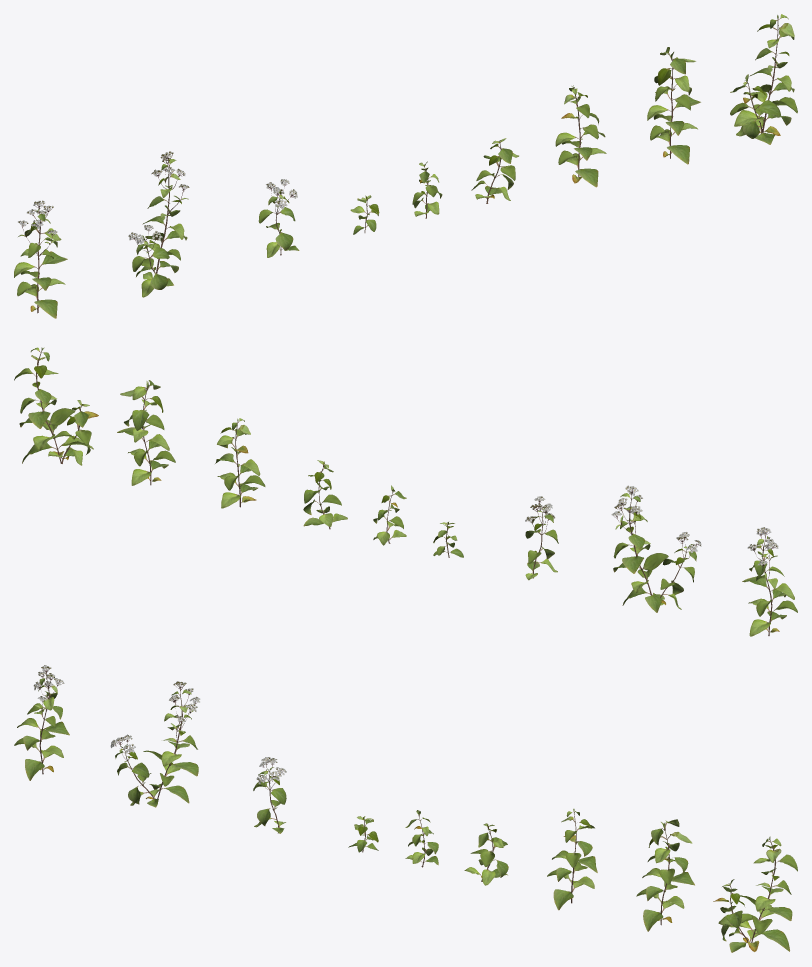
The model's file is shrub_01.glb.
3 views of the same model, one above another, from view 1: azimuth 30°, elevation 25°; view 2: azimuth 150°, elevation 25°; view 3: azimuth 330°, elevation 25° (orthographic). The views are drawn at different scales.
Parts seen in each view (by area): view 1: shrub_01_a; view 2: shrub_01_a; view 3: shrub_01_a.
Boxes of the visible parts, box(x1,y1,x2,y2) form: shrub_01_a: box(14, 14, 797, 318); shrub_01_a: box(14, 347, 797, 636); shrub_01_a: box(14, 665, 797, 952).
Size of the model in its own units: 2.59 by 0.396 by 0.2184.
Materials: 1 (1 with a texture image).
